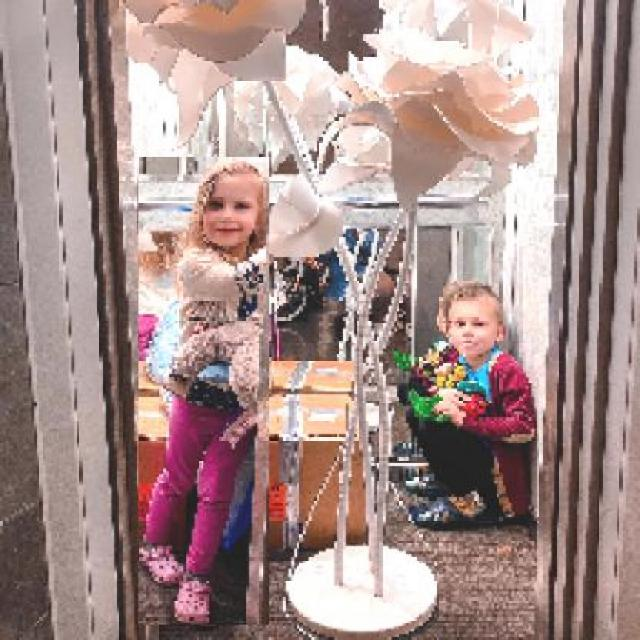child: (137, 157, 269, 626), (402, 284, 538, 524)
